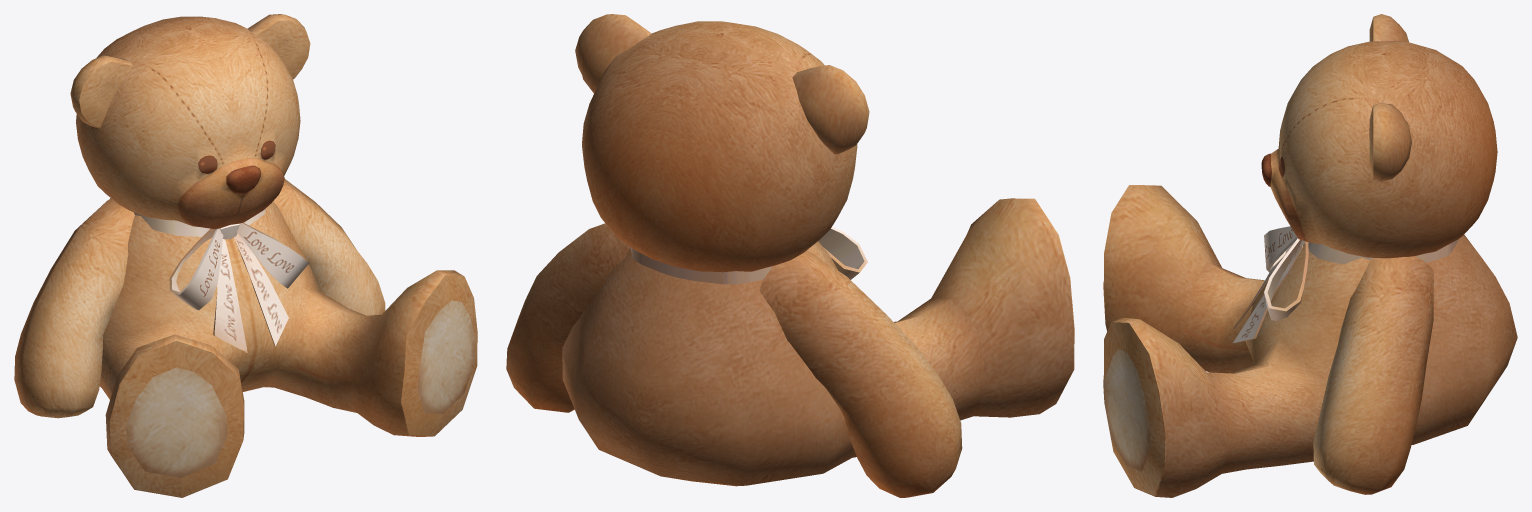
The model's file is Doll_OB_Bed_001_Bear.FBX.
The picture shows the model from 3 angles, left to right: view 1: azimuth 30°, elevation 25°; view 2: azimuth 150°, elevation 25°; view 3: azimuth 270°, elevation 25°; orthographic projection. The views are drawn at different scales.
Visible parts, largest first — view 1: Doll_OB_Bed_001_Bear, Doll_OB_Bed_001_Bear_1; view 2: Doll_OB_Bed_001_Bear, Doll_OB_Bed_001_Bear_1; view 3: Doll_OB_Bed_001_Bear, Doll_OB_Bed_001_Bear_1.
Boxes of the visible parts, box(x1,y1,x2,y2) form: Doll_OB_Bed_001_Bear: box(14, 14, 477, 497); Doll_OB_Bed_001_Bear_1: box(134, 208, 308, 352); Doll_OB_Bed_001_Bear: box(506, 14, 1074, 497); Doll_OB_Bed_001_Bear_1: box(630, 227, 867, 284); Doll_OB_Bed_001_Bear: box(1103, 14, 1517, 497); Doll_OB_Bed_001_Bear_1: box(1233, 226, 1459, 343).
Size of the model in its own units: 43.36 by 40.11 by 40.24.
